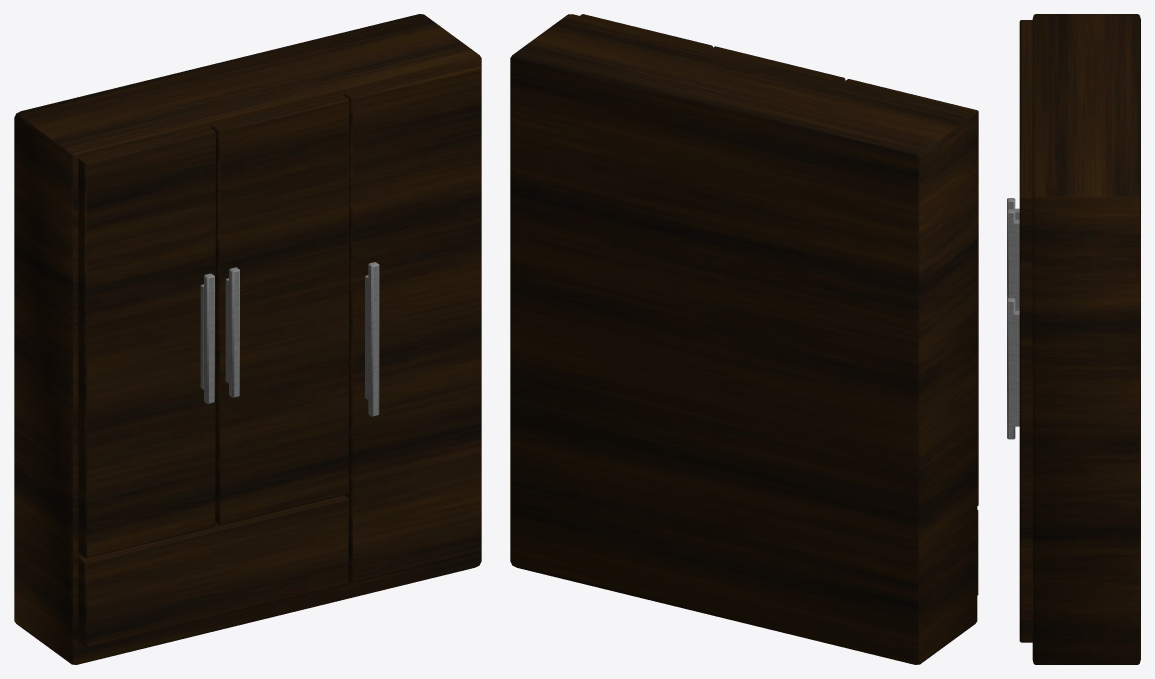
Rendered from Wardrobe.FBX.
The picture shows the model from 3 angles, left to right: view 1: azimuth 30°, elevation 25°; view 2: azimuth 150°, elevation 25°; view 3: azimuth 270°, elevation 25°; orthographic projection. The views are drawn at different scales.
Parts seen in each view (by area): view 1: Wardrobe; view 2: Wardrobe; view 3: Wardrobe.
Boxes of the visible parts, <box> form: Wardrobe: <box>14,14,481,664</box>; Wardrobe: <box>510,14,978,664</box>; Wardrobe: <box>1007,14,1140,664</box>.
Size of the model in its own units: 181 by 216 by 55.48.
2 materials, 2 textured.
